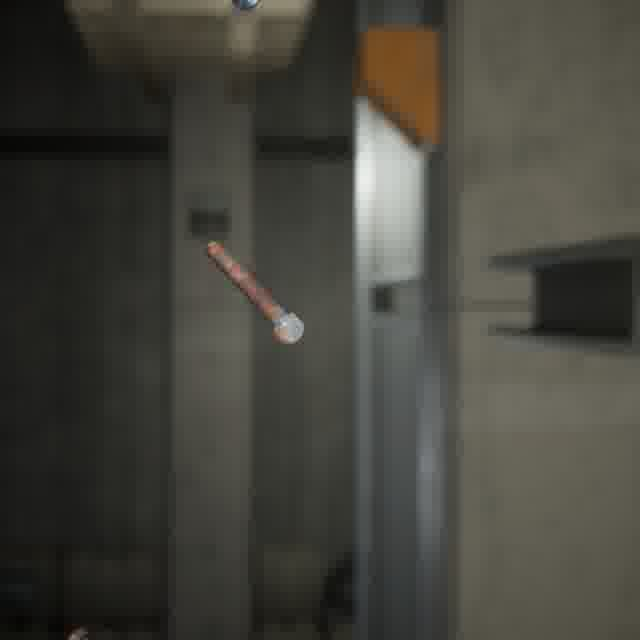bolt: (201, 236, 309, 349)
